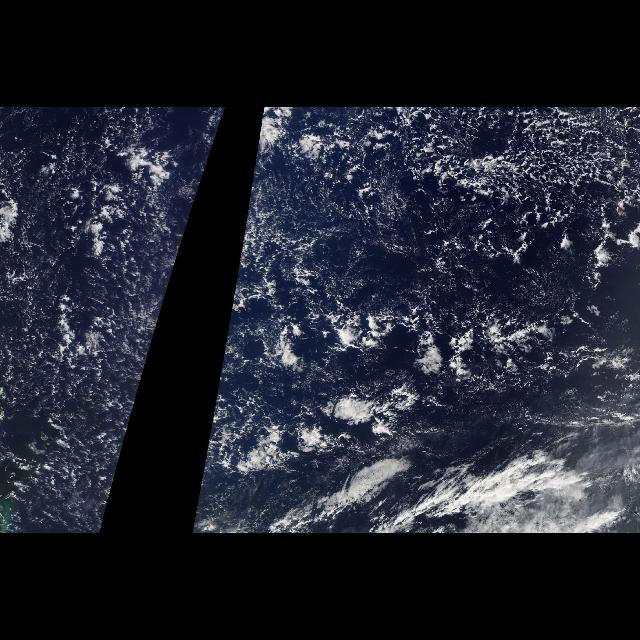Gravel: (8, 115, 224, 525), (390, 108, 640, 342), (206, 116, 358, 444)
